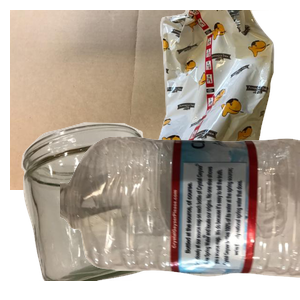cardboard: (10, 10, 250, 190)
glass: (19, 120, 184, 300)
plastic: (60, 134, 300, 300)
trash: (127, 10, 300, 190)
